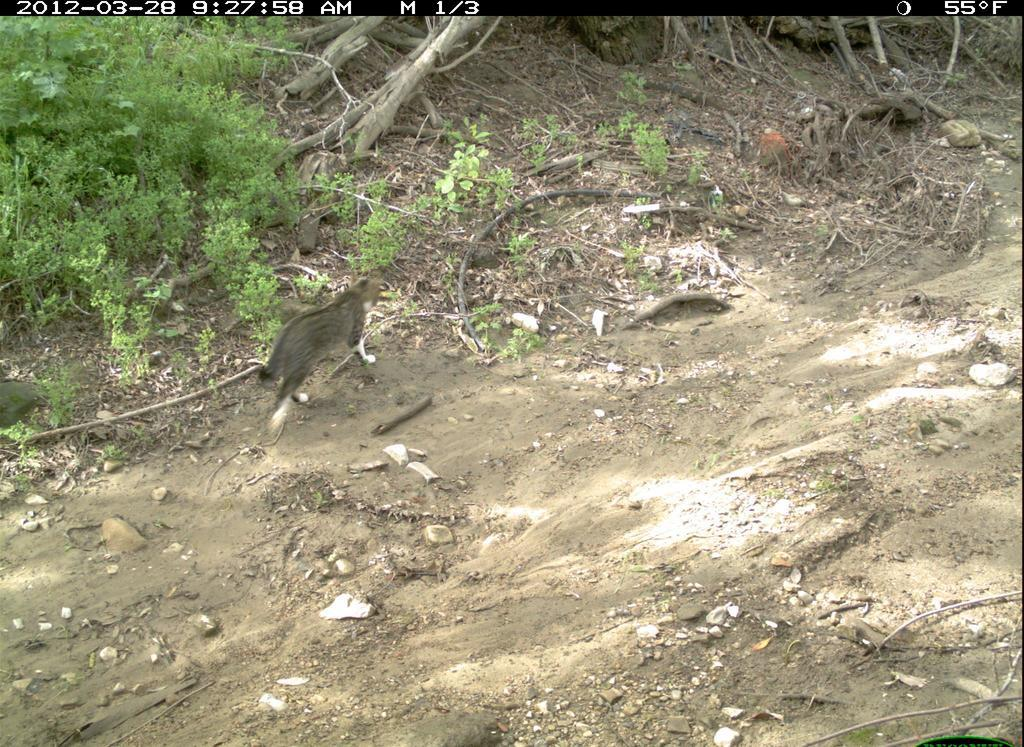cat: (244, 264, 418, 432)
